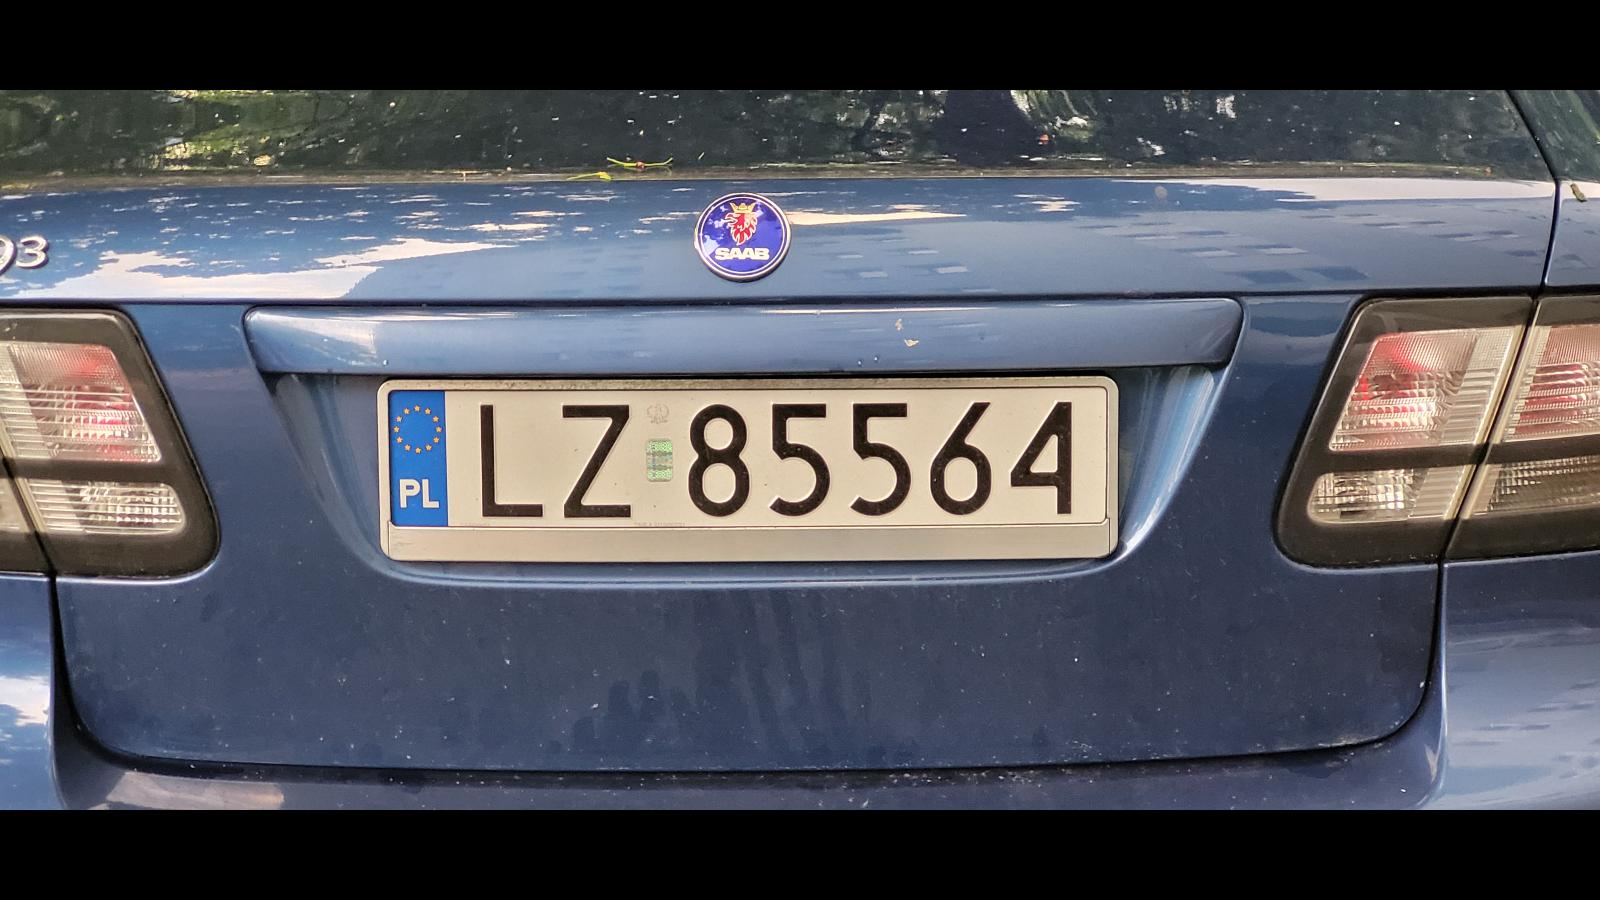plates: (379, 378, 1118, 562)
